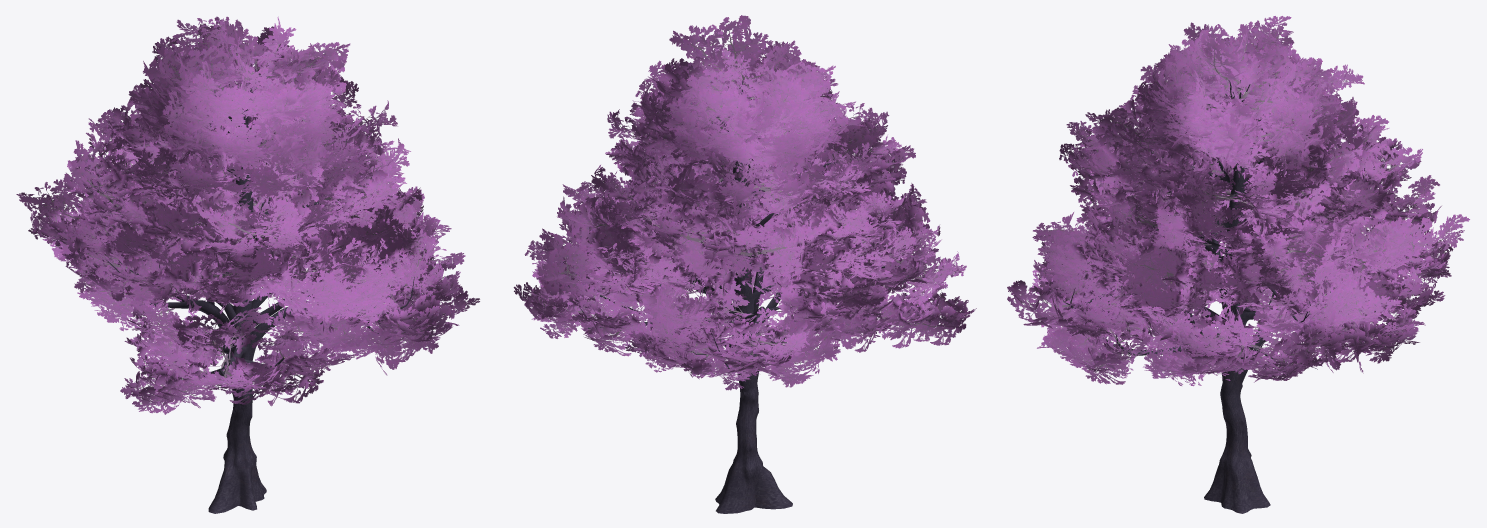
3 views of the same model, side by side, from view 1: azimuth 30°, elevation 25°; view 2: azimuth 150°, elevation 25°; view 3: azimuth 270°, elevation 25° (orthographic).
Parts seen in each view (by area): view 1: SM_FH_Oak_Tree_02_LOD0; view 2: SM_FH_Oak_Tree_02_LOD0; view 3: SM_FH_Oak_Tree_02_LOD0.
Part boxes in pixels (x1=…): SM_FH_Oak_Tree_02_LOD0: x1=16, y1=16, x2=479, y2=513; SM_FH_Oak_Tree_02_LOD0: x1=513, y1=15, x2=976, y2=513; SM_FH_Oak_Tree_02_LOD0: x1=1007, y1=16, x2=1469, y2=513.
Bounding box in the file's own units: 21.24 × 25.83 × 22.71.
2 materials, 2 textured.
